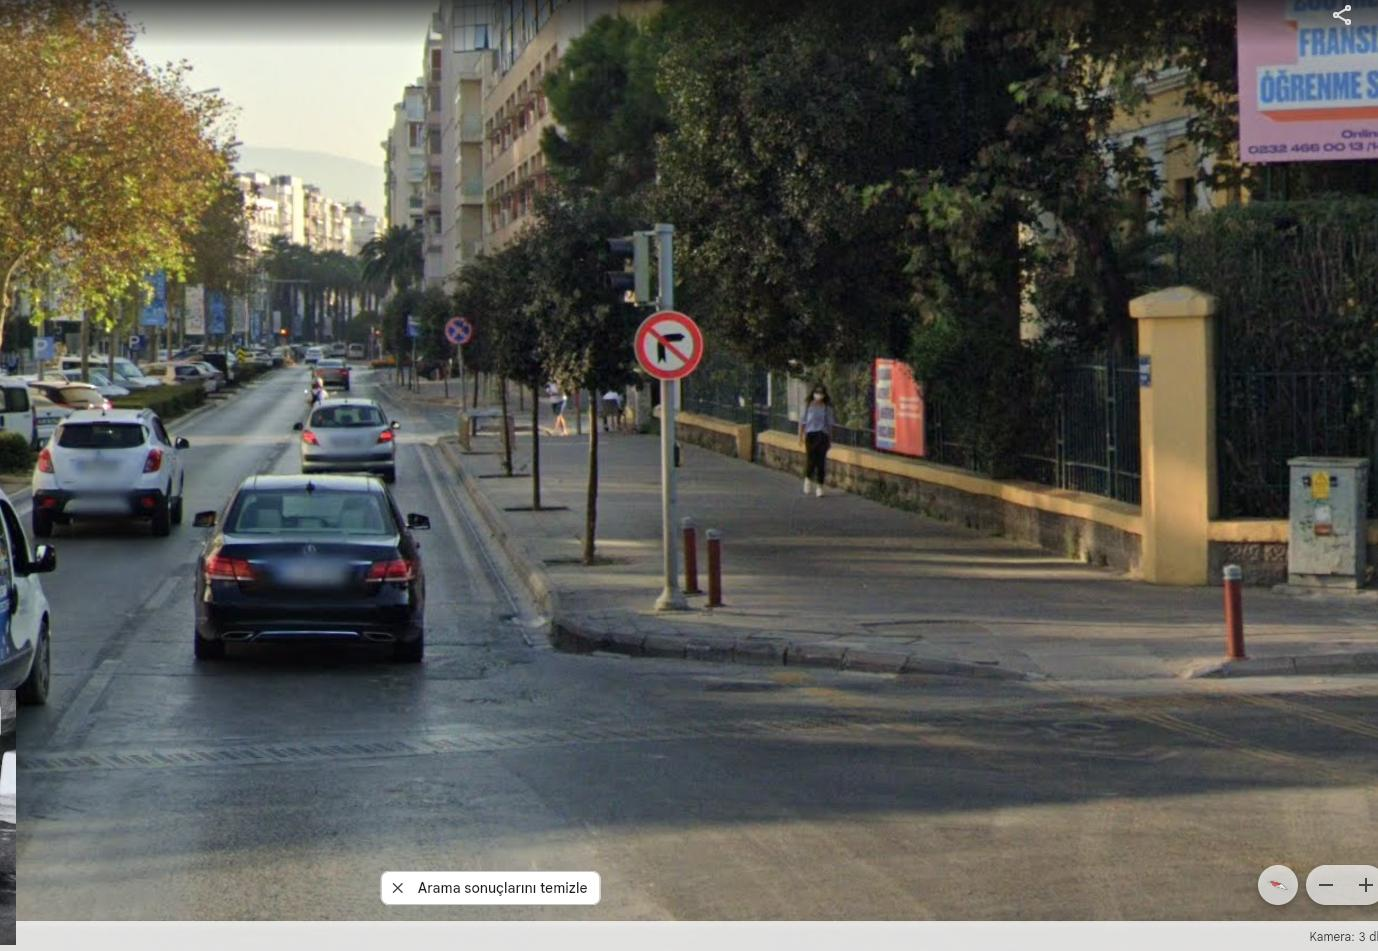rightturnsareforbidden: (635, 312, 701, 379)
